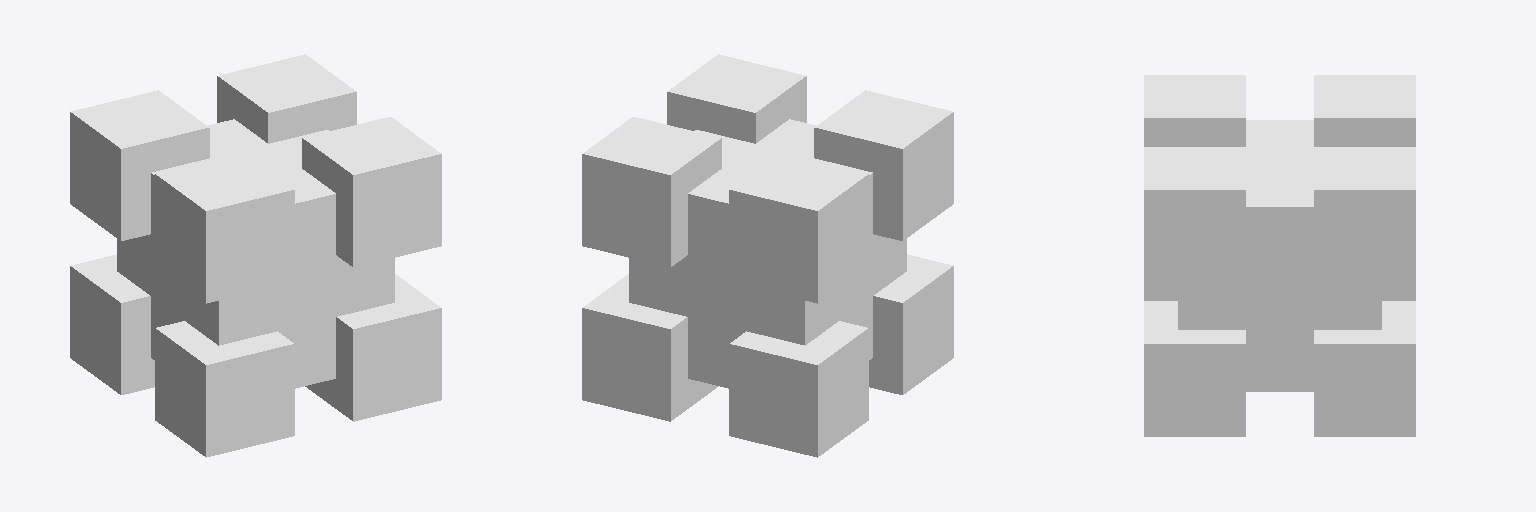
Rendered from gameCube_8_b.obj.
The picture shows the model from 3 angles: view 1: azimuth 30°, elevation 25°; view 2: azimuth 150°, elevation 25°; view 3: azimuth 270°, elevation 25°; orthographic projection.
Parts seen in each view (by area): view 1: gameCube_8_b; view 2: gameCube_8_b; view 3: gameCube_8_b.
Boxes of the visible parts, <box> form: gameCube_8_b: <box>70,54,441,457</box>; gameCube_8_b: <box>582,54,953,457</box>; gameCube_8_b: <box>1144,75,1415,436</box>.
Bounding box in the file's own units: 8 × 8 × 8.